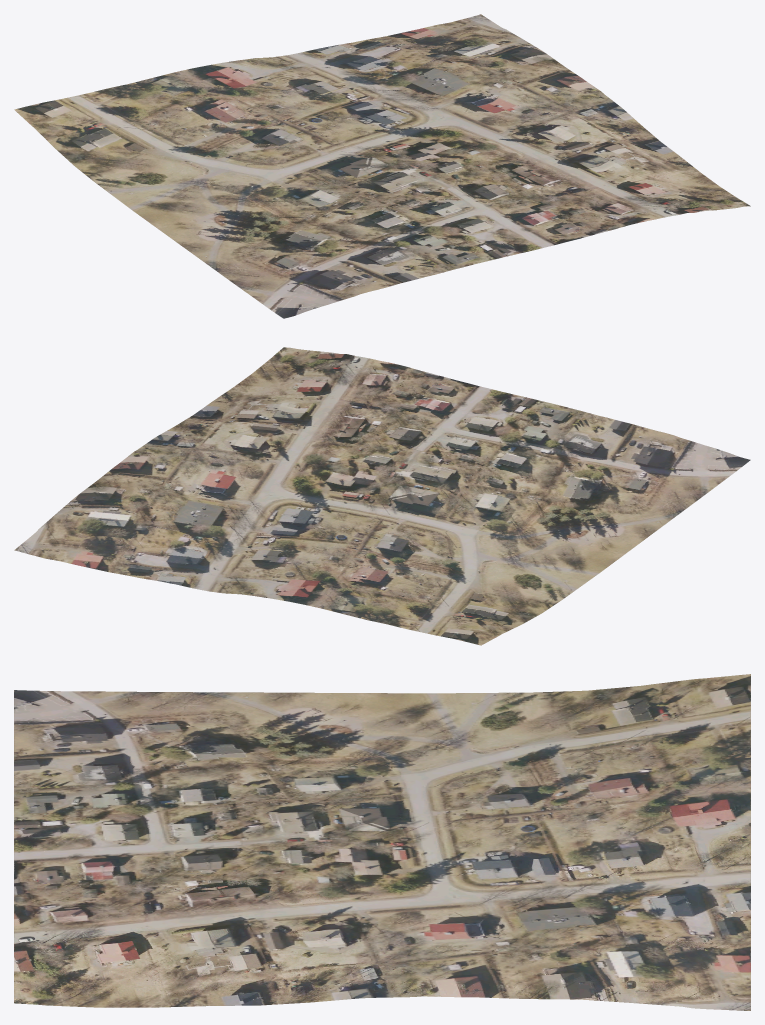
File: CM_Terrain_24490663_6821022.fbx
The picture shows the model from 3 angles, top to bottom: view 1: azimuth 30°, elevation 25°; view 2: azimuth 150°, elevation 25°; view 3: azimuth 270°, elevation 25°; orthographic projection. The views are drawn at different scales.
Visible parts, largest first — view 1: CM_Terrain_24490663_6821022_LOD0; view 2: CM_Terrain_24490663_6821022_LOD0; view 3: CM_Terrain_24490663_6821022_LOD0.
Part boxes in pixels (x1=…): CM_Terrain_24490663_6821022_LOD0: x1=14, y1=14, x2=750, y2=318; CM_Terrain_24490663_6821022_LOD0: x1=14, y1=347, x2=750, y2=645; CM_Terrain_24490663_6821022_LOD0: x1=14, y1=674, x2=750, y2=1010.
Size of what is drawn, in the model's own units: 205 by 8.15 by 205.
